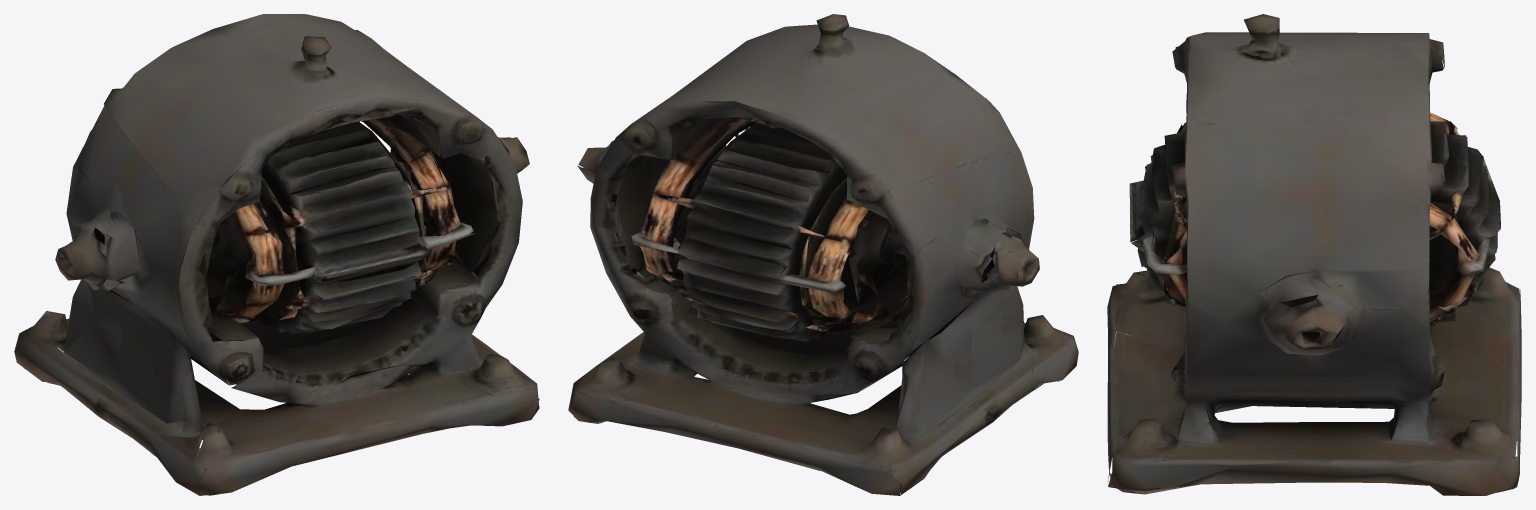
File: motor_abierto.glb
The picture shows the model from 3 angles, left to right: view 1: azimuth 30°, elevation 25°; view 2: azimuth 150°, elevation 25°; view 3: azimuth 270°, elevation 25°; orthographic projection. The views are drawn at different scales.
Parts seen in each view (by area): view 1: geometry_0; view 2: geometry_0; view 3: geometry_0.
Part boxes in pixels (x1,y1,x2,y2): geometry_0: [14, 14, 539, 495]; geometry_0: [568, 14, 1078, 495]; geometry_0: [1107, 14, 1521, 495].
Bounding box in the file's own units: 0.55 × 0.42 × 0.4002.
Materials: 1 (1 with a texture image).
